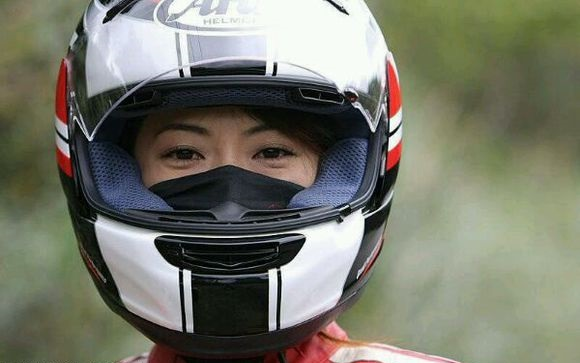face_mask: (137, 86, 317, 306)
